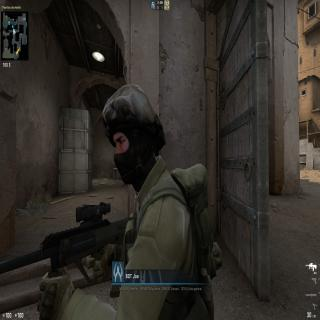T-Head: (99, 84, 167, 191)
